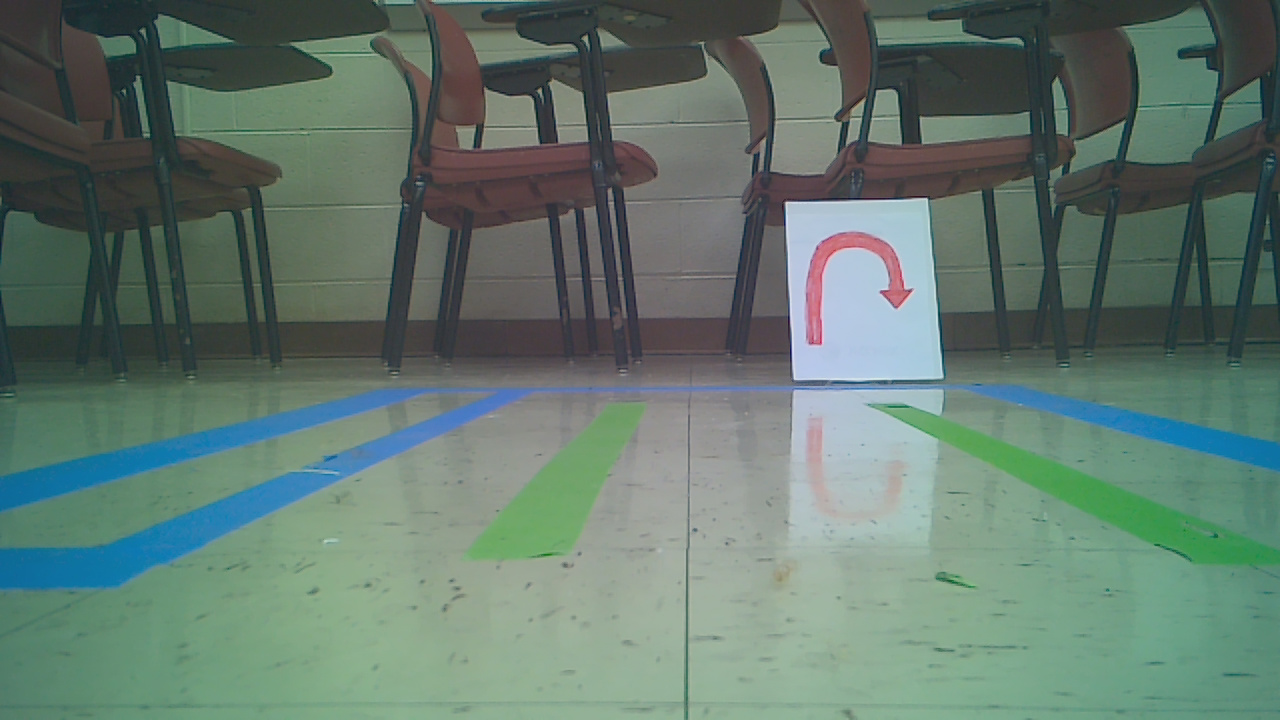greenline: (874, 402, 1273, 582), (473, 395, 647, 559)
uturn: (799, 229, 916, 349)
